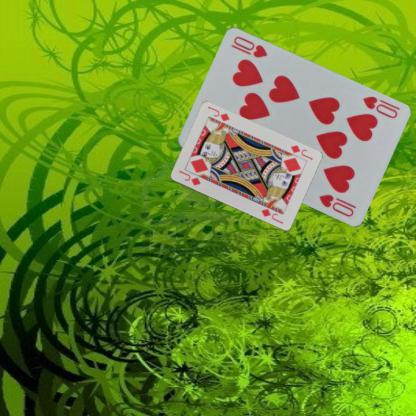10h: (360, 94, 399, 120)
Jd: (288, 142, 314, 161), (176, 168, 202, 186)
